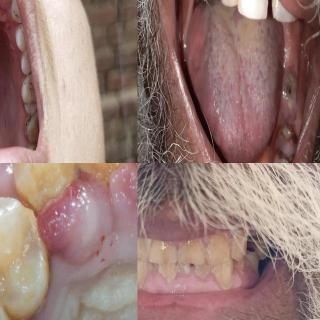Gum Swelling: (36, 163, 138, 269), (138, 272, 218, 296), (230, 266, 258, 288), (0, 163, 14, 197)
calculus: (0, 194, 55, 310), (16, 163, 74, 207), (77, 163, 136, 189), (229, 0, 245, 8)
plaque: (212, 260, 235, 290), (137, 258, 155, 294), (154, 237, 178, 262), (210, 228, 232, 255), (180, 236, 206, 256), (192, 257, 212, 278), (234, 256, 252, 278), (138, 236, 152, 258), (21, 110, 31, 140), (155, 261, 171, 279), (175, 262, 191, 280), (20, 70, 28, 90)
stains: (19, 72, 39, 120), (24, 115, 38, 145), (11, 0, 21, 28), (18, 18, 26, 44), (24, 51, 32, 72)
